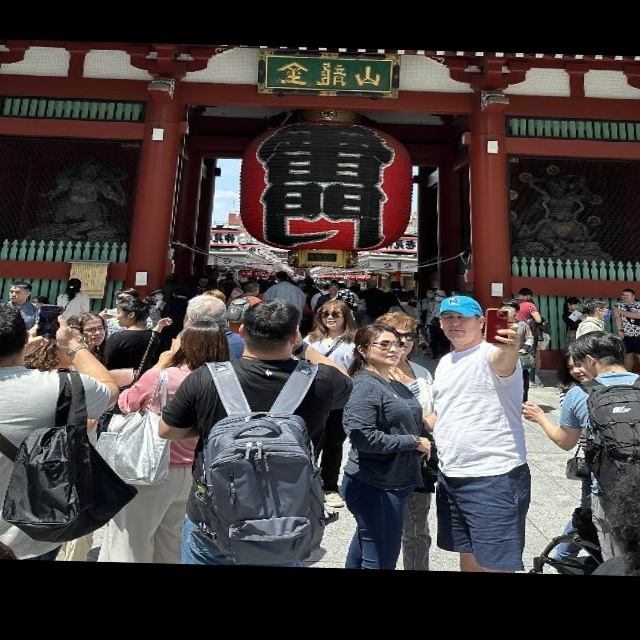Sin_Casco_Mascarrilla: (241, 297, 303, 352), (353, 325, 407, 372)
